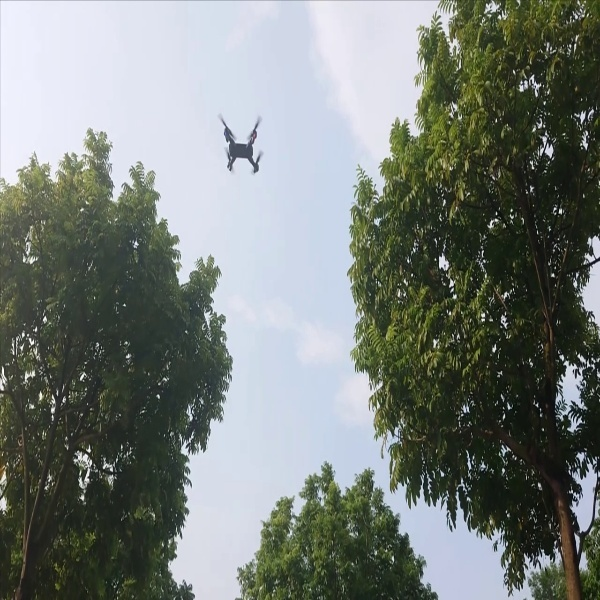drone: (215, 108, 273, 185)
